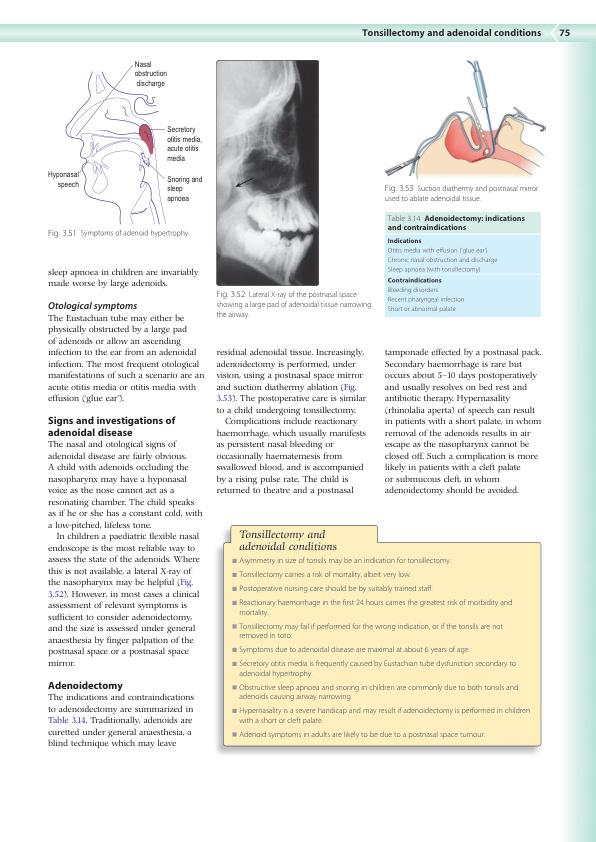caption: (215, 290, 372, 320), (384, 184, 539, 203), (386, 214, 526, 232), (238, 529, 338, 551), (47, 229, 190, 239)
header: (361, 28, 543, 39)
image: (42, 54, 207, 227), (215, 59, 320, 286), (379, 54, 553, 182)
list: (230, 556, 531, 740)
sub-section-heading: (47, 415, 177, 438), (47, 300, 138, 312), (47, 680, 123, 692)
table: (385, 234, 542, 316)
text: (47, 440, 204, 668), (383, 347, 542, 497), (215, 347, 368, 497), (47, 313, 205, 405), (47, 692, 195, 749), (47, 266, 199, 290)
